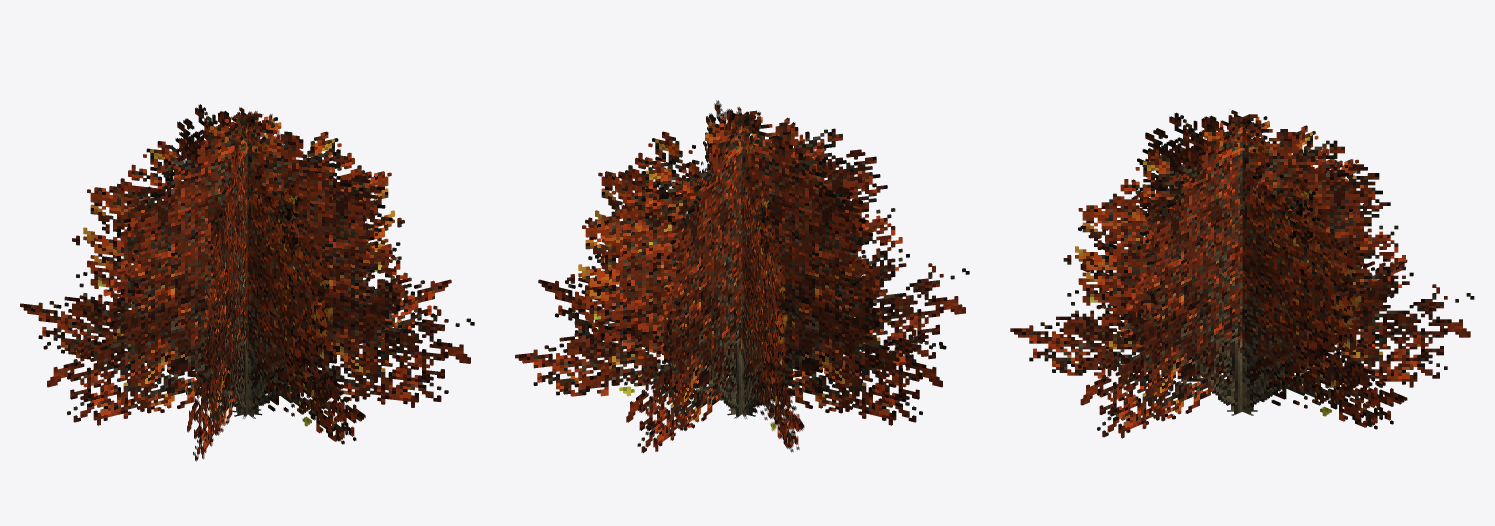
Rendered from bush07.glb.
3 views of the same model, side by side, from view 1: azimuth 30°, elevation 25°; view 2: azimuth 150°, elevation 25°; view 3: azimuth 270°, elevation 25° (orthographic).
Parts seen in each view (by area): view 1: bush07; view 2: bush07; view 3: bush07.
Part boxes in pixels (x1,y1,x2,y2): bush07: (20, 104, 474, 461); bush07: (515, 100, 969, 452); bush07: (1010, 110, 1474, 438).
Size of the model in its own units: 10.92 by 7.5 by 10.92.
Materials: 1 (1 with a texture image).
